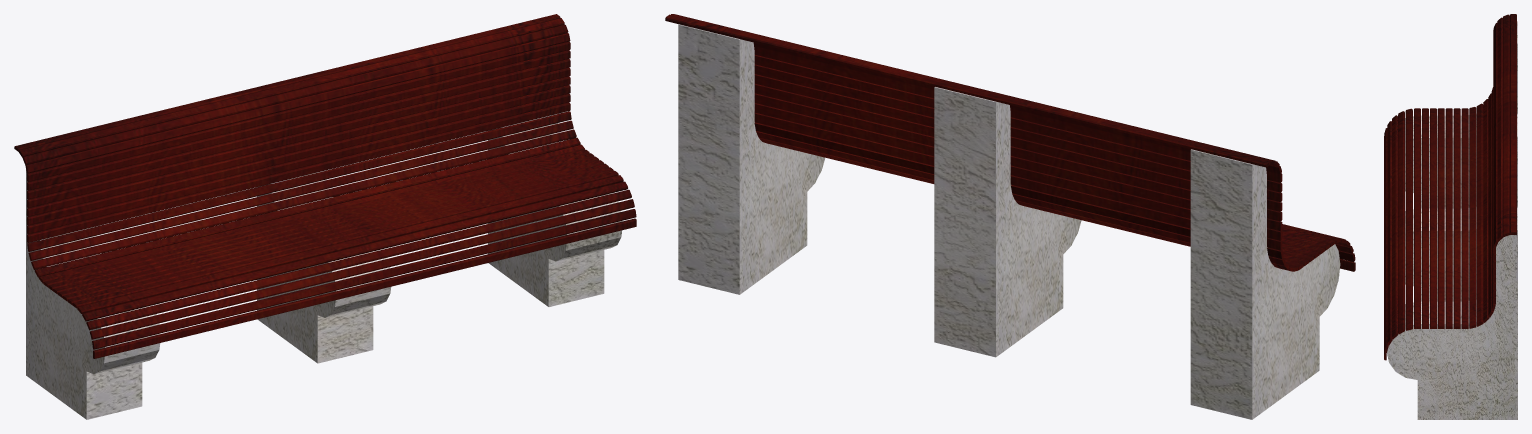
File: BenchPark_01.FBX
The picture shows the model from 3 angles, left to right: view 1: azimuth 30°, elevation 25°; view 2: azimuth 150°, elevation 25°; view 3: azimuth 270°, elevation 25°; orthographic projection. The views are drawn at different scales.
Parts seen in each view (by area): view 1: Object01; view 2: Object01; view 3: Object01.
Boxes of the visible parts, left/top/right/bottom form: Object01: left=14, top=14, right=636, bottom=419; Object01: left=665, top=14, right=1355, bottom=419; Object01: left=1384, top=14, right=1517, bottom=419.
Size of the model in its own units: 220 by 90.38 by 57.
2 materials, 2 textured.
